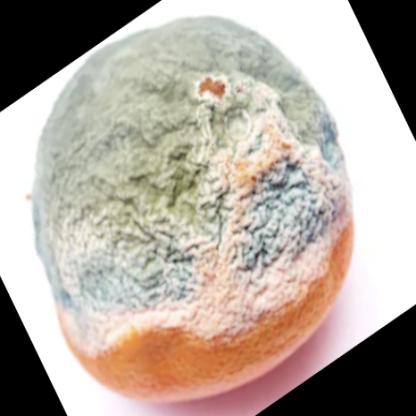rotten: (32, 16, 353, 401)
